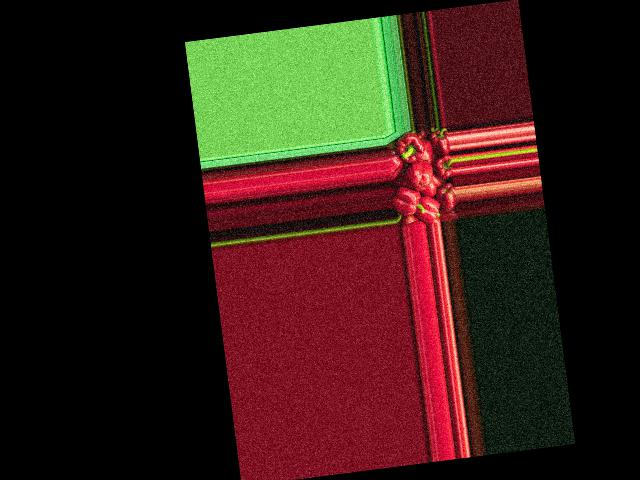bell_pepper: (429, 127, 450, 155)
